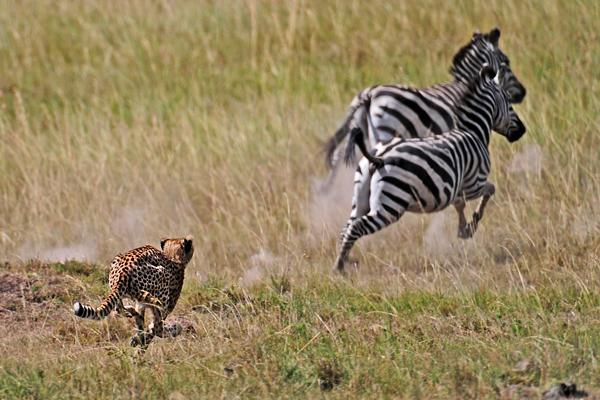Cheetah: (75, 232, 195, 346)
zebra: (334, 69, 530, 270), (352, 29, 523, 201)
